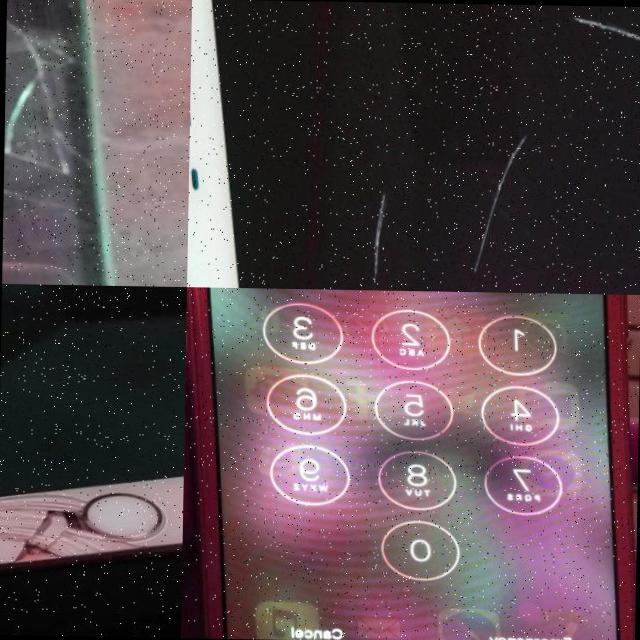scratch: (450, 130, 536, 274), (562, 5, 640, 52), (352, 190, 385, 278)
screen crack: (0, 0, 112, 284), (0, 458, 154, 596)
